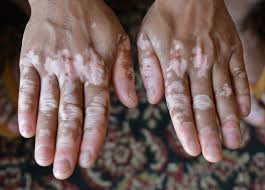vitiligo: (141, 30, 258, 157), (23, 35, 125, 163)
